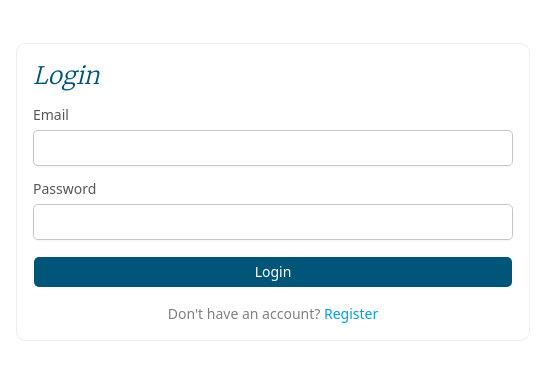
LoginPage › shows an error when login fails
This screenshot has width=547, height=385.
Type "alex@example.com" into the field labelled "Email" at (273, 148), box [33,130,513,166]
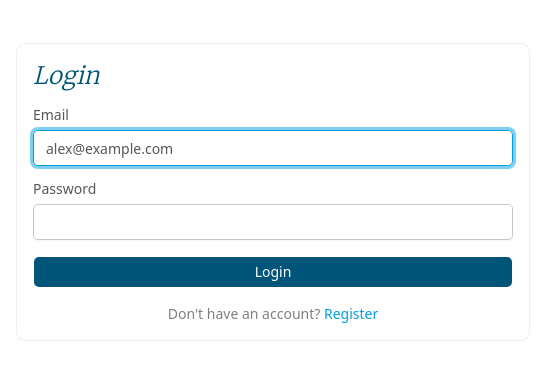
Type "WrongPassword" into the password field labelled "Password" at (273, 222), box [33,204,513,240]
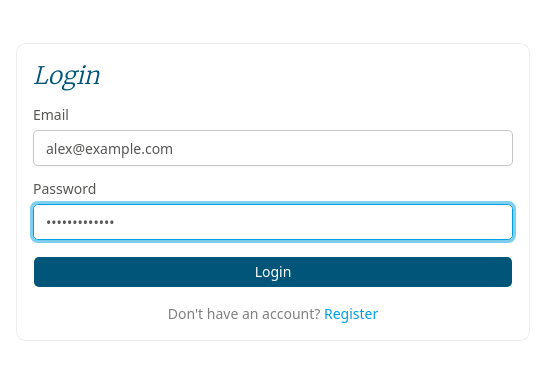
Click the button "Login" at (273, 272), box [33,256,513,288]
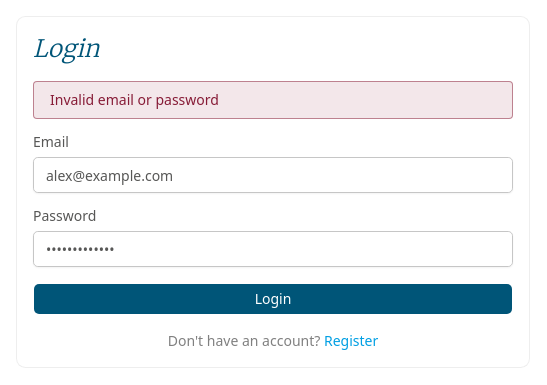
Check: the text "Invalid email or password" is shown, box [33,81,513,119]
